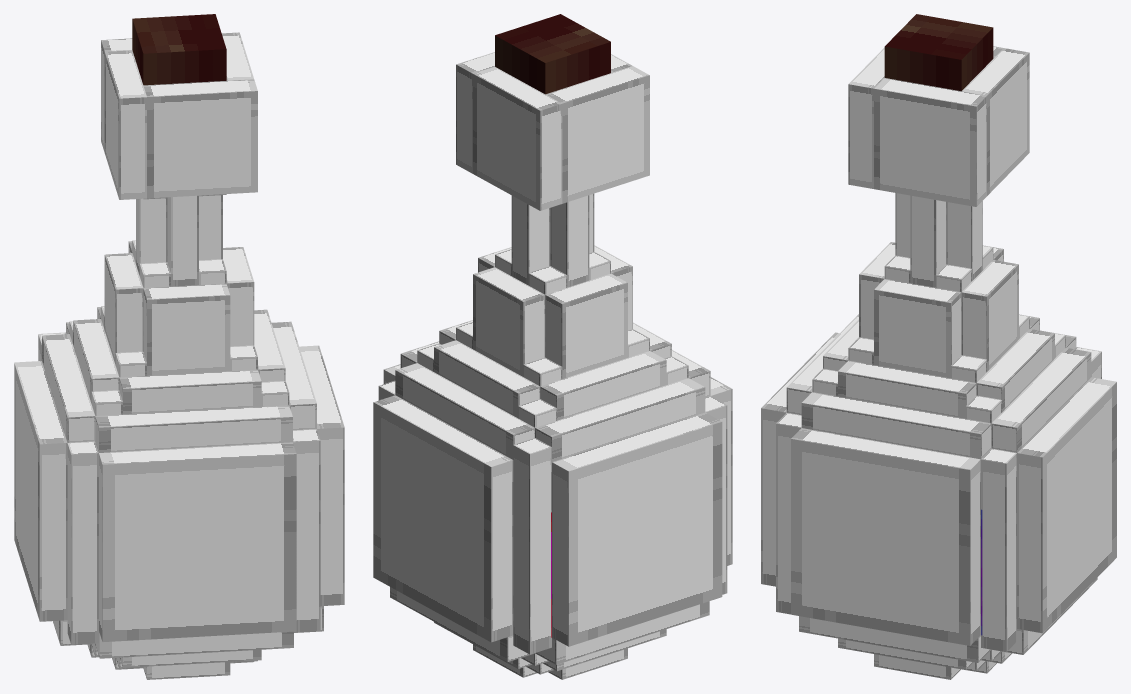
Rendered from Bottle.obj.
3 views of the same model, side by side, from view 1: azimuth 30°, elevation 25°; view 2: azimuth 150°, elevation 25°; view 3: azimuth 270°, elevation 25° (orthographic).
Parts seen in each view (by area): view 1: cube, Tappo; view 2: cube, Tappo; view 3: cube, Tappo.
Part boxes in pixels (x1,y1,x2,y2): cube: (14, 32, 344, 679); Tappo: (132, 14, 226, 85); cube: (373, 52, 732, 679); Tappo: (495, 14, 610, 94); cube: (761, 46, 1116, 679); Tappo: (884, 14, 993, 91).
Size of the model in its own units: 0.288 by 0.5438 by 0.288.
2 materials, 2 textured.
